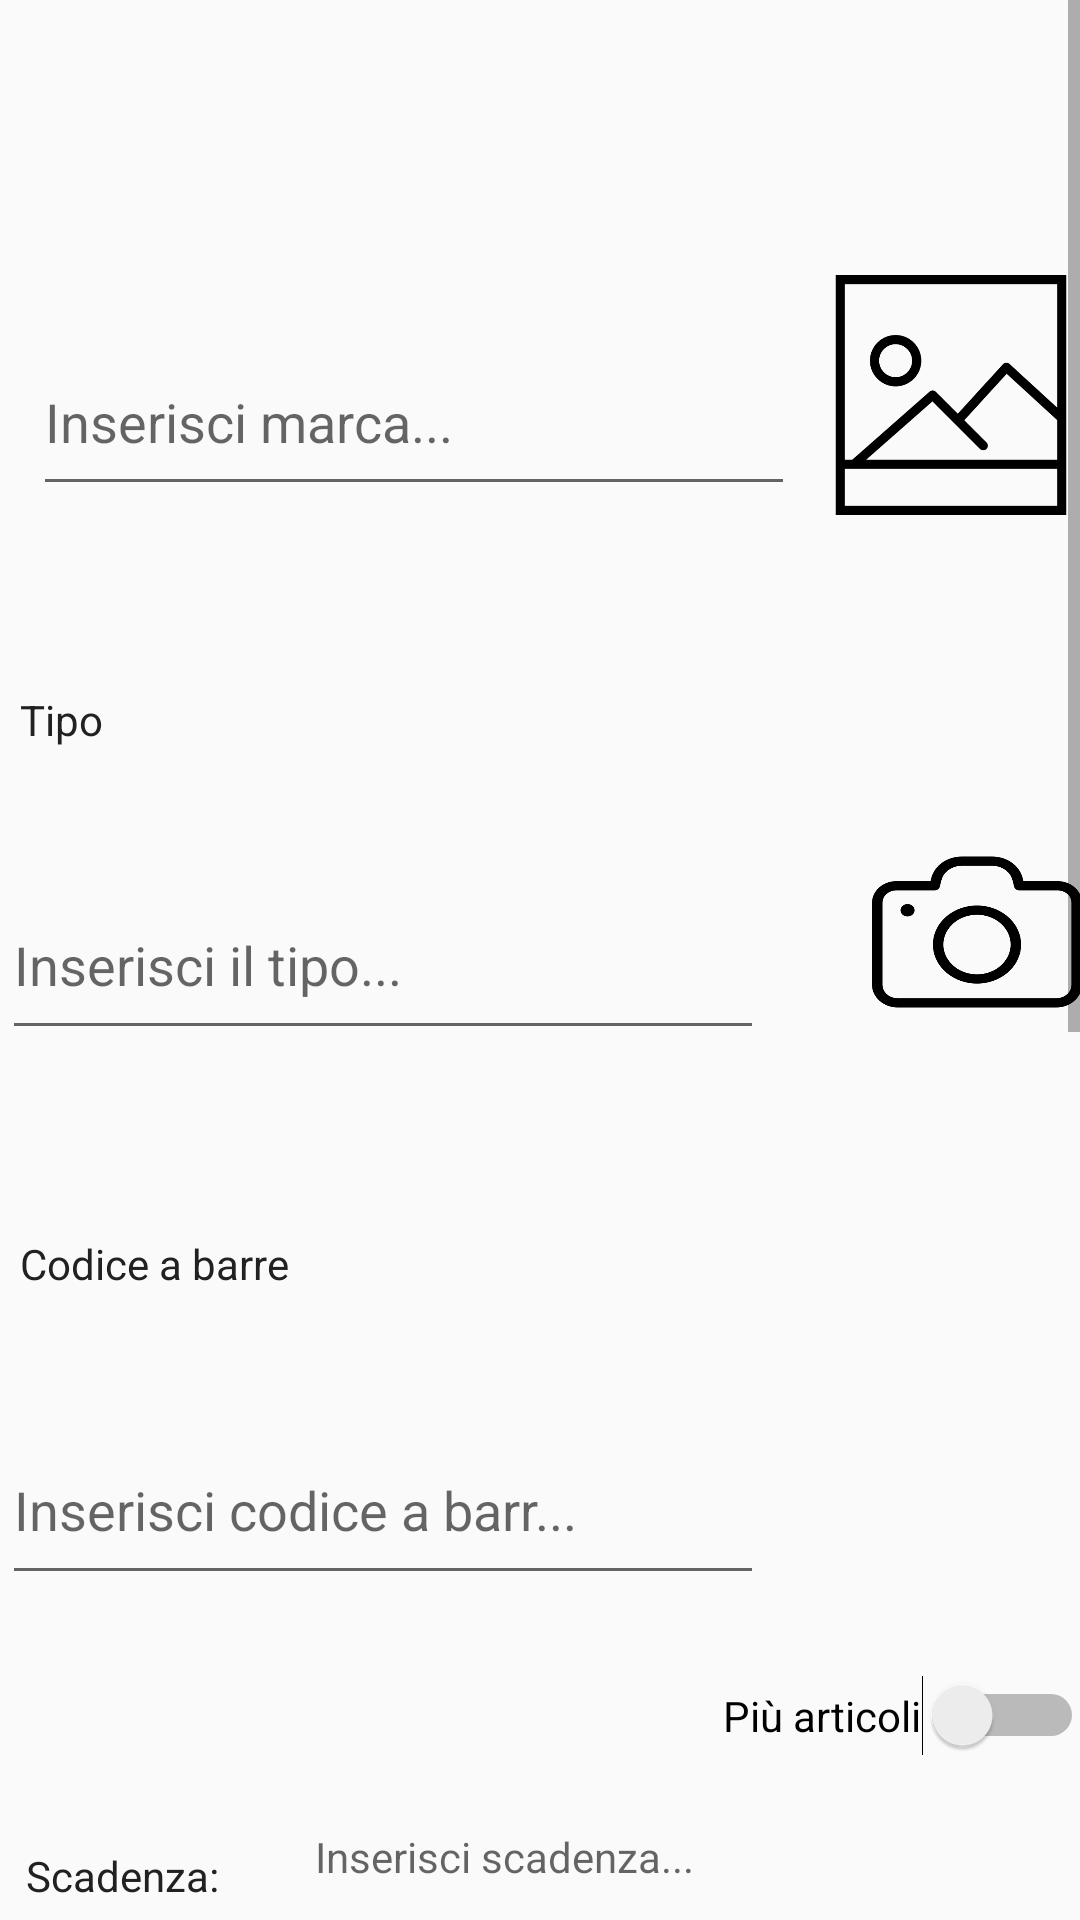

Locate icon controls on the screen. Image size 1080w x 1920h, boxes as (x1, y1, x2, y2).
camera: (872, 839, 1080, 1025)
